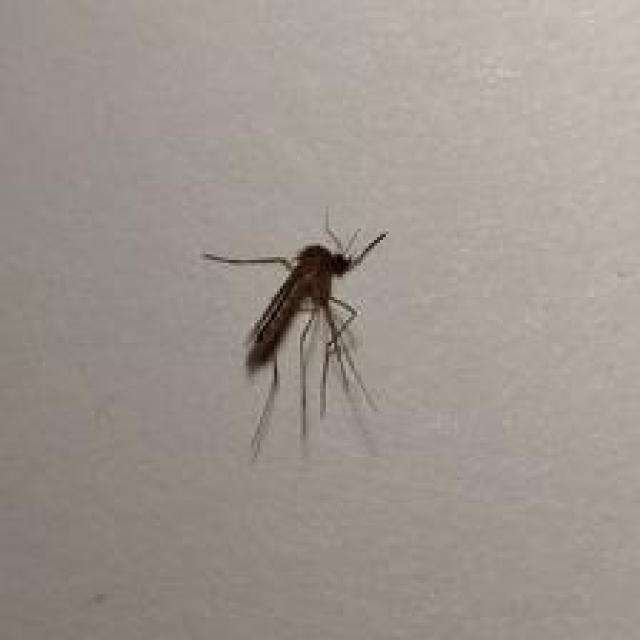Culex: (201, 206, 390, 460)
